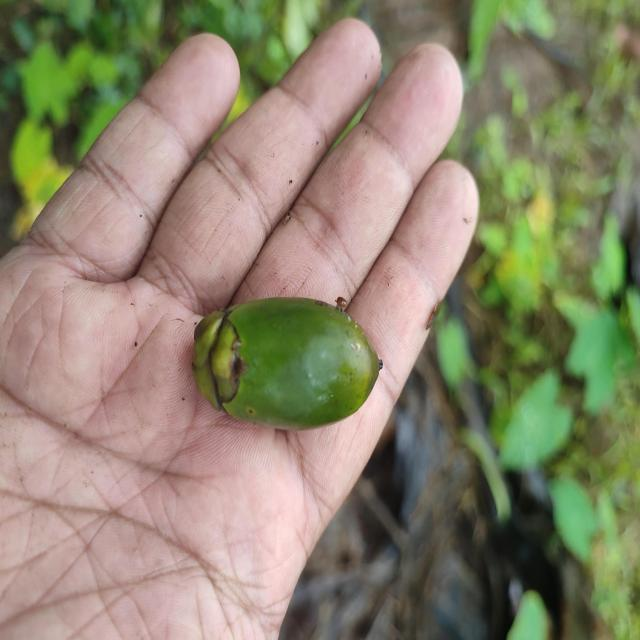damaged: (191, 297, 383, 433)
